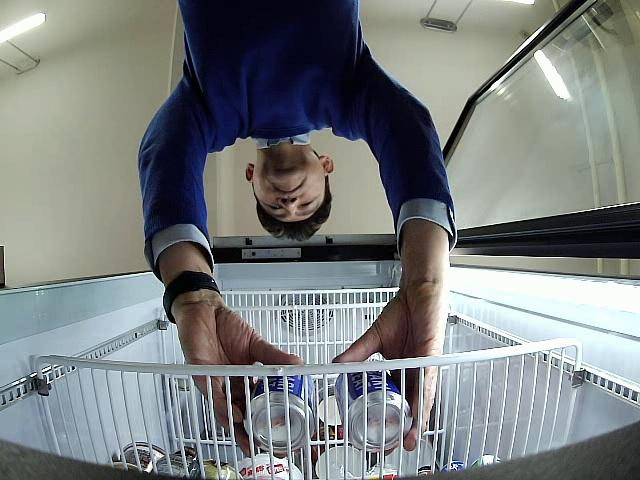00_hand: (173, 303, 304, 454), (332, 285, 450, 451)
13_pocariSweat: (336, 371, 413, 453), (244, 367, 316, 454)
